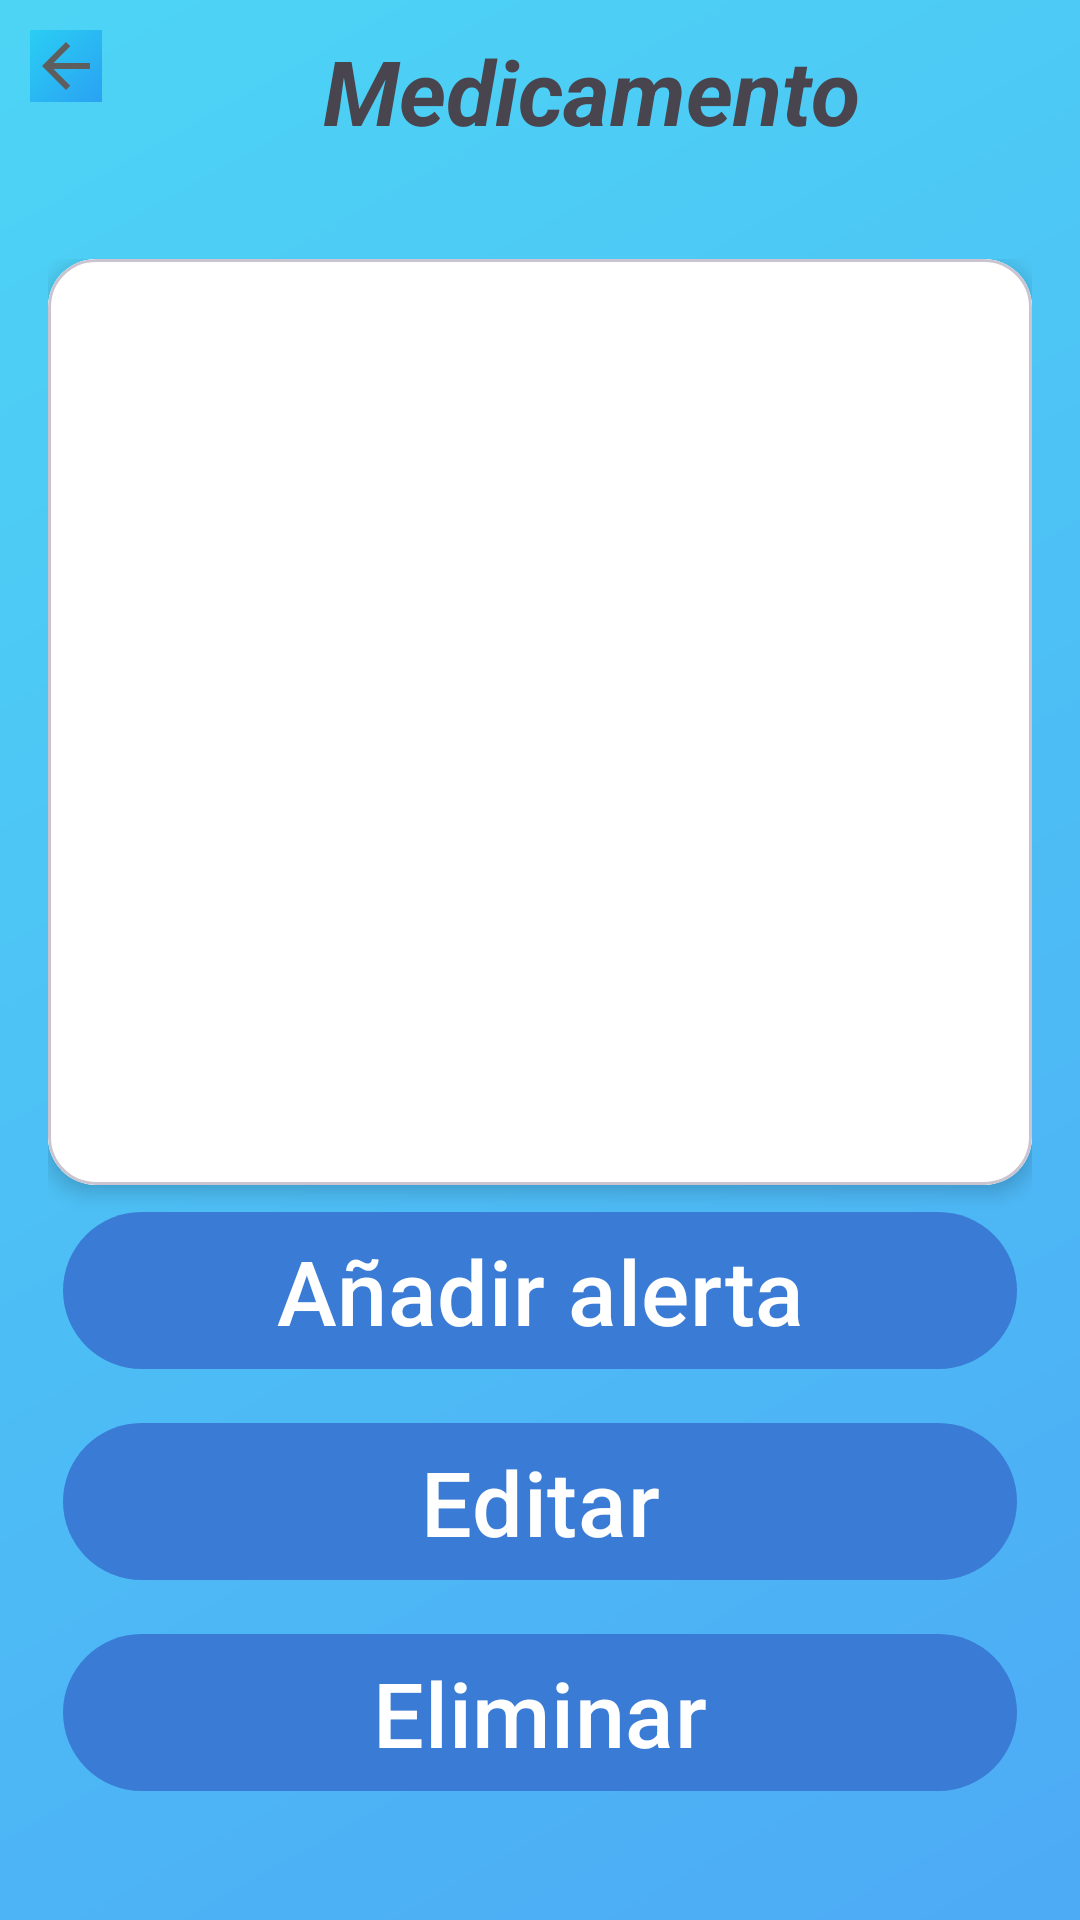

Icon bounding boxes for this 1080x1920 phone screenshot, format (x1, y1, x2, y2):
back: (30, 30, 102, 102)
